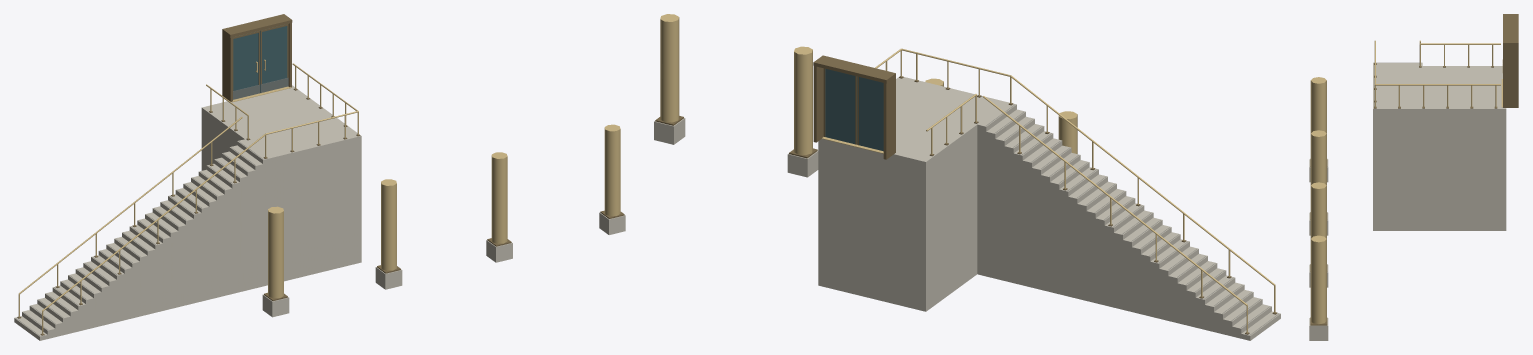
Rendered from hq-lobby-doors.glb.
3 views of the same model, side by side, from view 1: azimuth 30°, elevation 25°; view 2: azimuth 150°, elevation 25°; view 3: azimuth 270°, elevation 25° (orthographic). The views are drawn at different scales.
Visible parts, largest first — view 1: Limestone stair course (×26), Limestone landing, Canopy column extension (×4), Smoked glazed leaf (×2), Brass handrail (×2), Bearing pedestal (×2), Frame lintel, Bronze jamb; view 2: Limestone stair course (×30), Limestone landing, Canopy column extension (×3), Smoked glazed leaf (×2), Bronze jamb (×2), Brass handrail (×2), Bearing pedestal (×2), Frame lintel; view 3: Limestone landing, Canopy column extension (×4), Bronze jamb, Frame lintel, Bearing pedestal, Brass handrail.
Part boxes in pixels (<box>): Limestone stair course (×26): <box>45,139,270,333</box>; Limestone landing: <box>201,85,361,281</box>; Canopy column extension (×4): <box>268,124,620,298</box>; Smoked glazed leaf (×2): <box>233,26,287,92</box>; Brass handrail (×2): <box>19,117,265,311</box>; Bearing pedestal (×2): <box>262,267,402,317</box>; Frame lintel: <box>222,14,292,37</box>; Bronze jamb: <box>222,32,232,101</box>; Limestone stair course (×30): <box>977,102,1280,340</box>; Limestone landing: <box>818,76,1007,311</box>; Canopy column extension (×3): <box>660,14,1077,154</box>; Smoked glazed leaf (×2): <box>825,68,883,151</box>; Bronze jamb (×2): <box>813,65,895,159</box>; Brass handrail (×2): <box>983,75,1275,305</box>; Bearing pedestal (×2): <box>654,118,818,177</box>; Frame lintel: <box>813,55,895,83</box>; Limestone landing: <box>1373,66,1506,230</box>; Canopy column extension (×4): <box>1310,77,1326,324</box>; Bronze jamb: <box>1503,46,1518,107</box>; Frame lintel: <box>1503,14,1518,45</box>; Bearing pedestal: <box>1309,318,1328,340</box>; Brass handrail: <box>1375,84,1500,85</box>.
Bounding box in the file's own units: 23 × 7.74 × 7.8.
